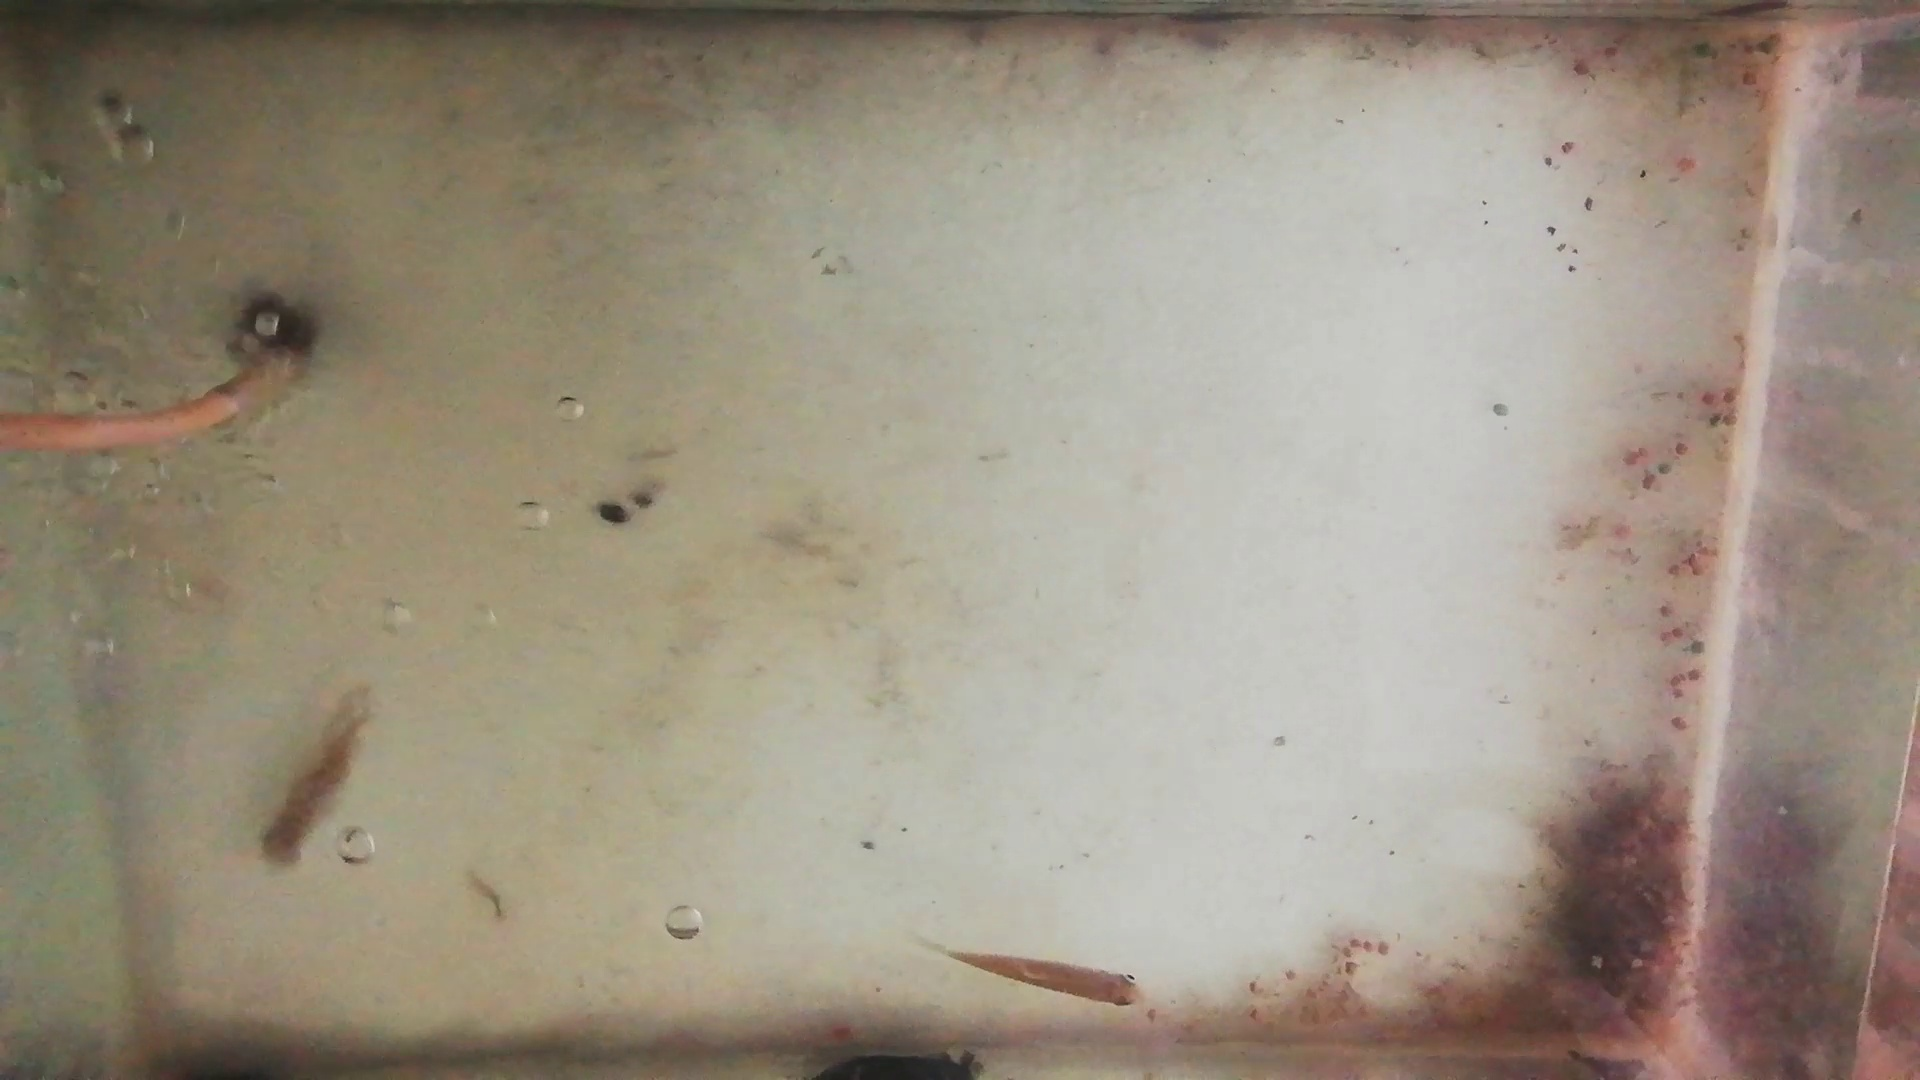fish: (255, 692, 380, 869), (948, 949, 1150, 1009)
